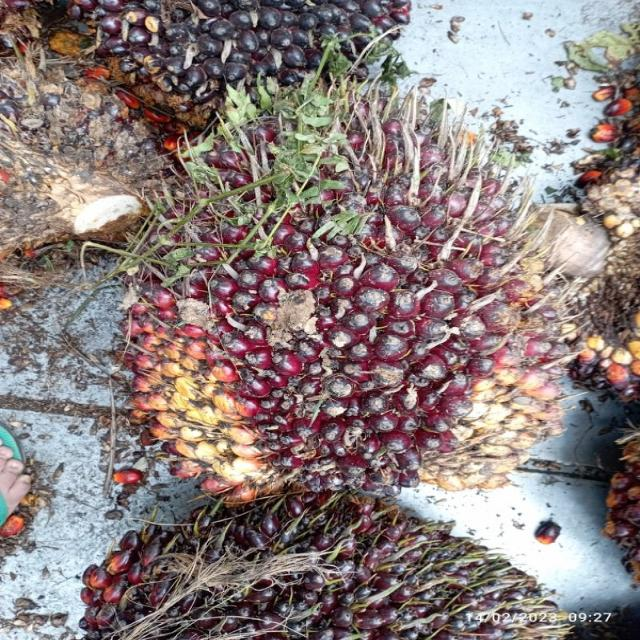fraksi 1: (124, 76, 568, 506)
